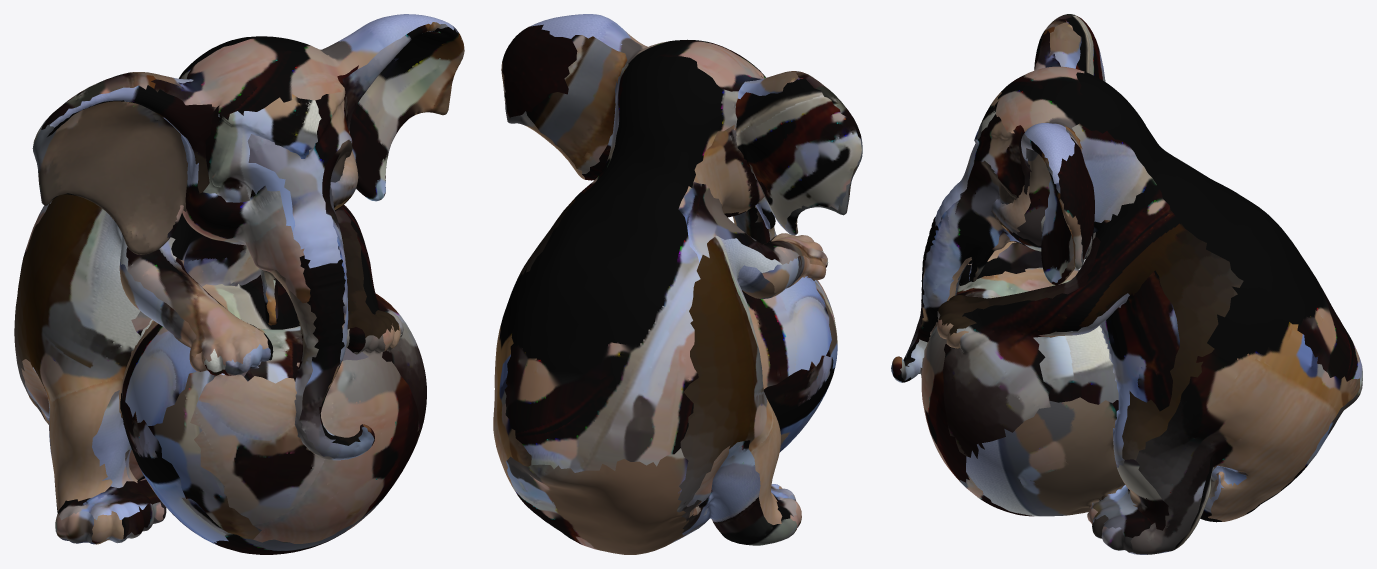
The model's file is elephant_on_apple.fbx.
The picture shows the model from 3 angles, left to right: view 1: azimuth 30°, elevation 25°; view 2: azimuth 150°, elevation 25°; view 3: azimuth 270°, elevation 25°; orthographic projection. The views are drawn at different scales.
Visible parts, largest first — view 1: tmpt73m51jr.ply; view 2: tmpt73m51jr.ply; view 3: tmpt73m51jr.ply.
Boxes of the visible parts, box(x1,y1,x2,y2) form: tmpt73m51jr.ply: box(14, 14, 464, 554); tmpt73m51jr.ply: box(493, 14, 862, 554); tmpt73m51jr.ply: box(891, 14, 1362, 554).
Bounding box in the file's own units: 1.76 × 1.99 × 1.97.
